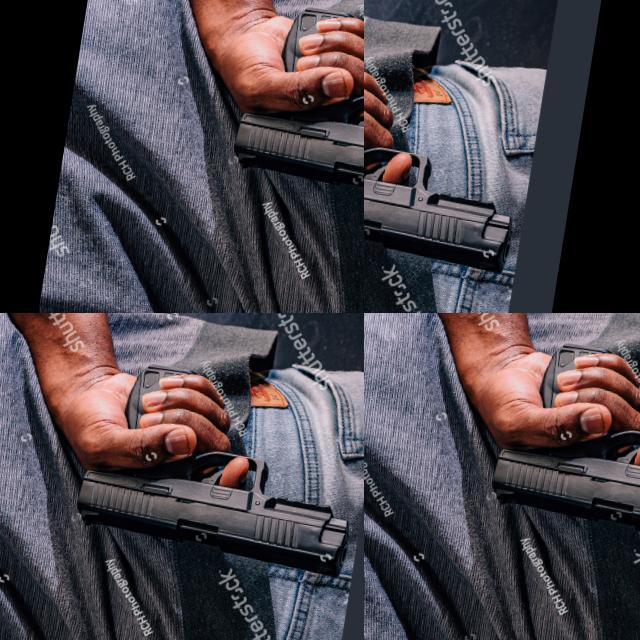handgun: (364, 0, 619, 313), (481, 404, 640, 563), (42, 283, 114, 313), (0, 570, 16, 610)
